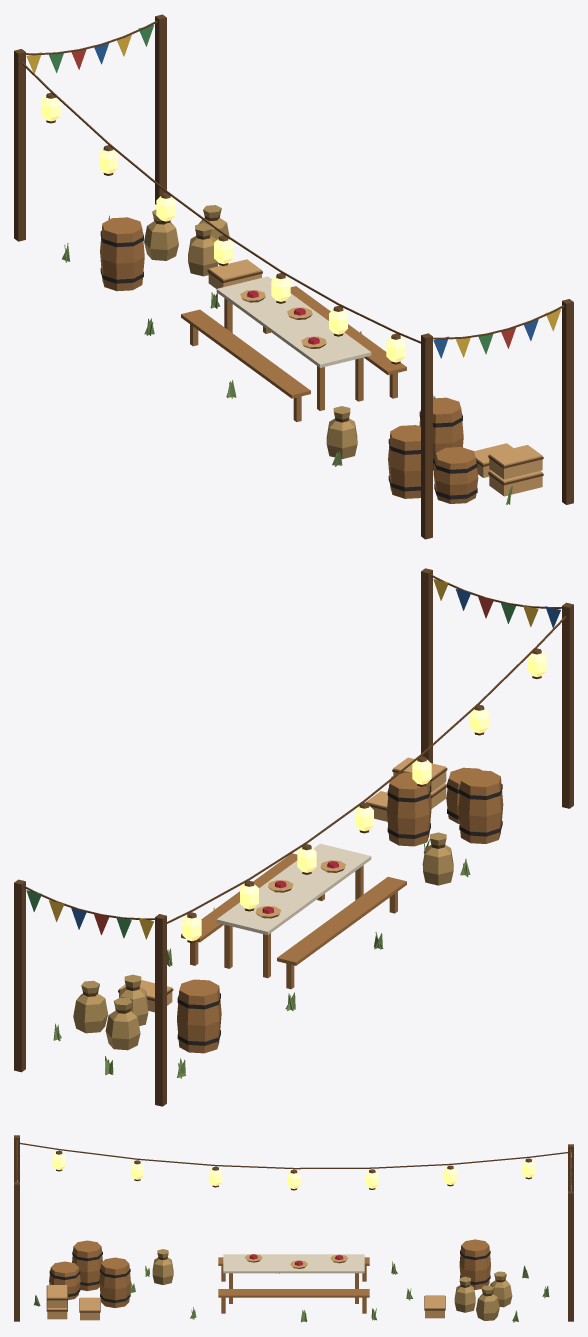
Rendered from decor.glb.
3 views of the same model, one above another, from view 1: azimuth 30°, elevation 25°; view 2: azimuth 150°, elevation 25°; view 3: azimuth 270°, elevation 25° (orthographic). The views are drawn at different scales.
Visible parts, largest first — view 1: decor_poles, decor_table, decor_barrels, decor_lanterns, decor_sacks, decor_crates, decor_grass; view 2: decor_poles, decor_table, decor_barrels, decor_sacks, decor_lanterns, decor_crates, decor_grass; view 3: decor_barrels, decor_table, decor_lanterns, decor_sacks, decor_poles, decor_crates, decor_grass.
Part boxes in pixels (bbox=[...]): decor_poles: bbox=[14, 14, 573, 539]; decor_table: bbox=[181, 276, 406, 421]; decor_barrels: bbox=[100, 217, 478, 503]; decor_lanterns: bbox=[21, 62, 420, 364]; decor_sacks: bbox=[144, 205, 357, 459]; decor_crates: bbox=[207, 259, 543, 496]; decor_grass: bbox=[62, 215, 512, 504]; decor_poles: bbox=[14, 568, 573, 1106]; decor_table: bbox=[181, 843, 406, 989]; decor_barrels: bbox=[177, 767, 503, 1053]; decor_sacks: bbox=[73, 832, 453, 1050]; decor_lanterns: bbox=[167, 616, 566, 942]; decor_crates: bbox=[118, 757, 447, 1012]; decor_grass: bbox=[53, 839, 470, 1078]; decor_barrels: bbox=[49, 1239, 490, 1307]; decor_table: bbox=[218, 1254, 369, 1313]; decor_lanterns: bbox=[20, 1142, 567, 1190]; decor_sacks: bbox=[152, 1249, 512, 1320]; decor_poles: bbox=[14, 1135, 573, 1321]; decor_crates: bbox=[46, 1285, 445, 1320]; decor_grass: bbox=[34, 1261, 549, 1322].
Size of the model in its own units: 2.46 by 3 by 11.12.
